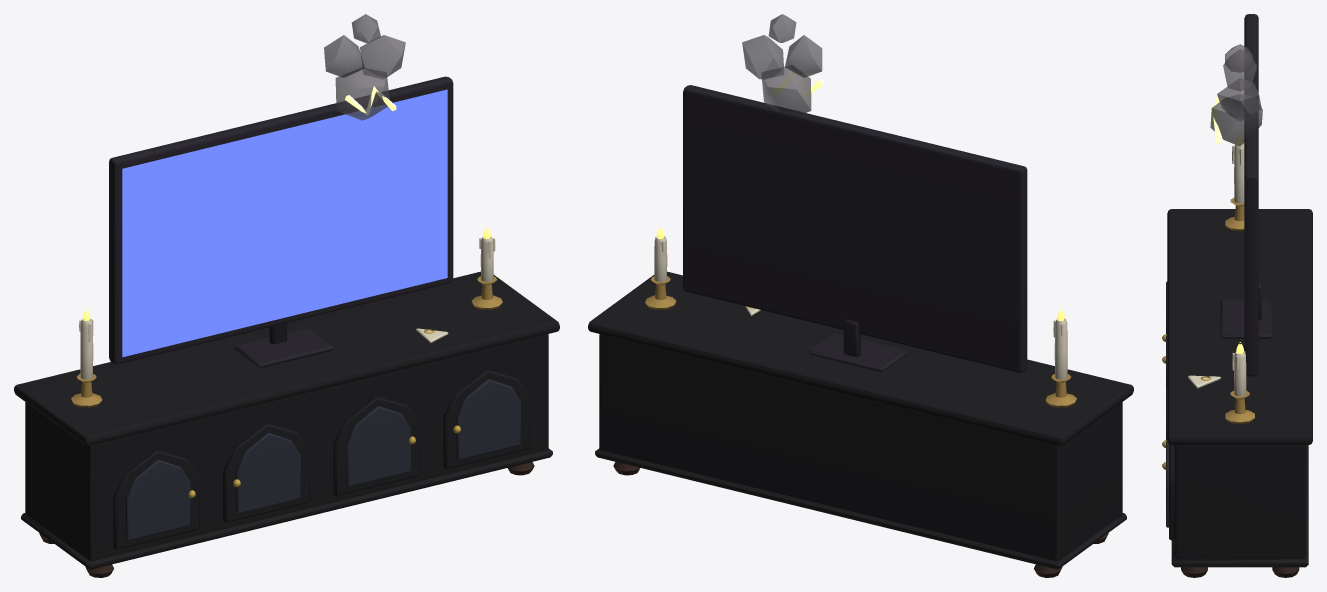
Rendered from tv_seance.glb.
The picture shows the model from 3 angles, left to right: view 1: azimuth 30°, elevation 25°; view 2: azimuth 150°, elevation 25°; view 3: azimuth 270°, elevation 25°; orthographic projection.
Parts seen in each view (by area): view 1: tv_seance, screen, broken; view 2: tv_seance, broken; view 3: tv_seance, broken.
Part boxes in pixels (x1=…): tv_seance: x1=14, y1=76, x2=559, y2=577; screen: x1=122, y1=89, x2=447, y2=357; broken: x1=324, y1=14, x2=405, y2=120; tv_seance: x1=588, y1=85, x2=1133, y2=577; broken: x1=742, y1=14, x2=823, y2=112; tv_seance: x1=1162, y1=14, x2=1312, y2=577; broken: x1=1210, y1=44, x2=1262, y2=146.
Size of the model in its own units: 1.9 by 1.8 by 0.529.
